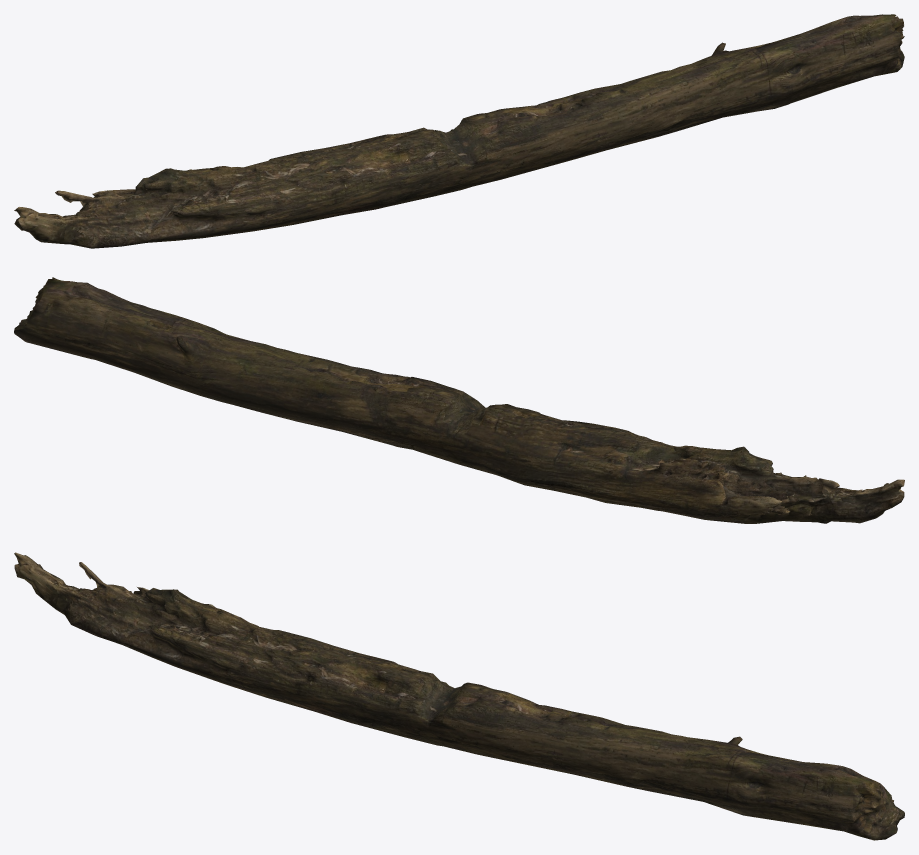
Rendered from dead_tree_trunk.glb.
3 renders of one model, top to bottom at view 1: azimuth 30°, elevation 25°; view 2: azimuth 150°, elevation 25°; view 3: azimuth 330°, elevation 25°, orthographic.
Parts seen in each view (by area): view 1: dead_tree_trunk; view 2: dead_tree_trunk; view 3: dead_tree_trunk.
Part boxes in pixels (left/top/right/bottom): dead_tree_trunk: left=14, top=14, right=904, bottom=248; dead_tree_trunk: left=14, top=277, right=904, bottom=523; dead_tree_trunk: left=14, top=552, right=904, bottom=840.
Bounding box in the file's own units: 3.05 × 0.2899 × 0.2774.
Materials: 1 (1 with a texture image).
